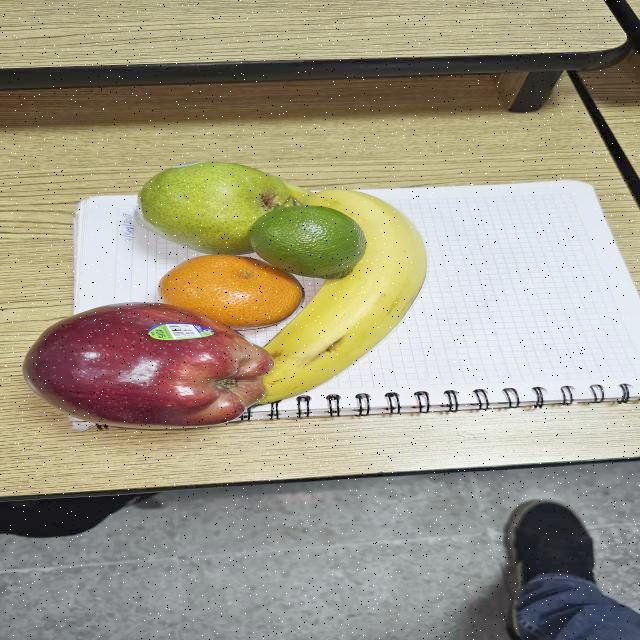Apel Gala: (132, 161, 313, 261)
Apel Merah: (14, 292, 286, 442)
Jeruk Mandarin: (142, 254, 324, 332)
Lemon: (247, 202, 377, 284)
Pisang: (228, 166, 440, 422)
